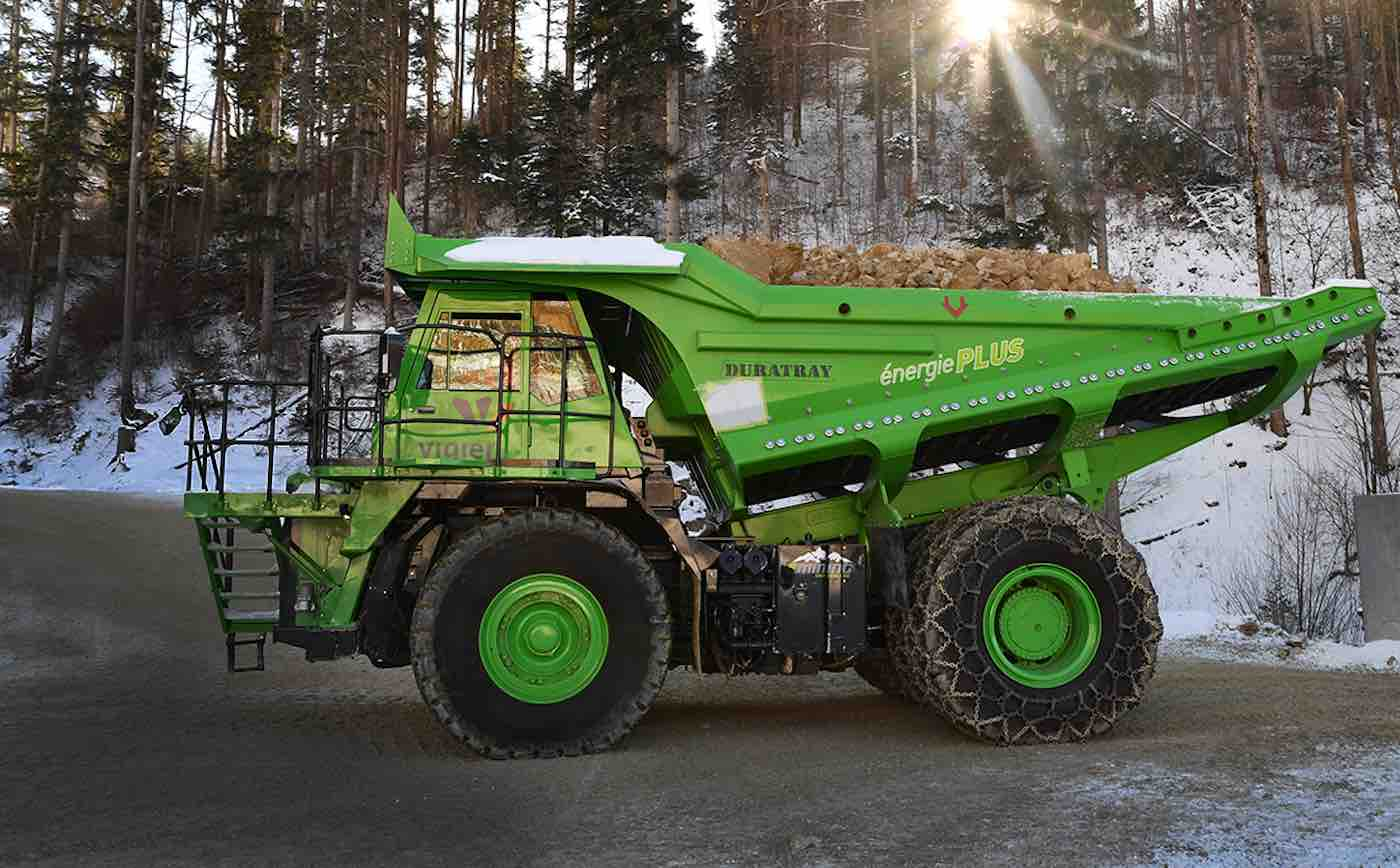Truck: (279, 198, 1360, 761)
